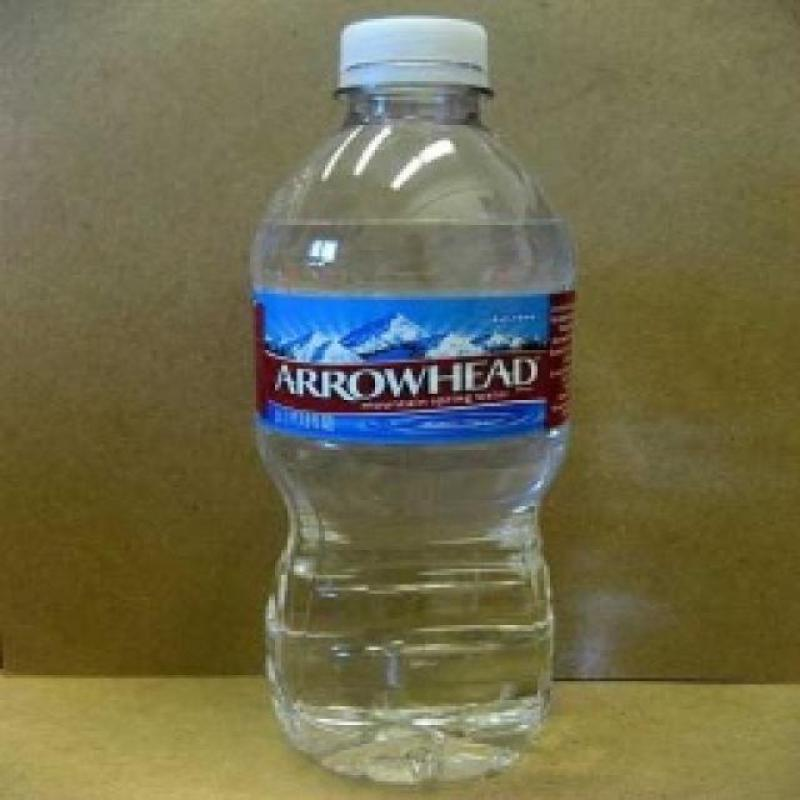botella: (244, 11, 581, 790)
